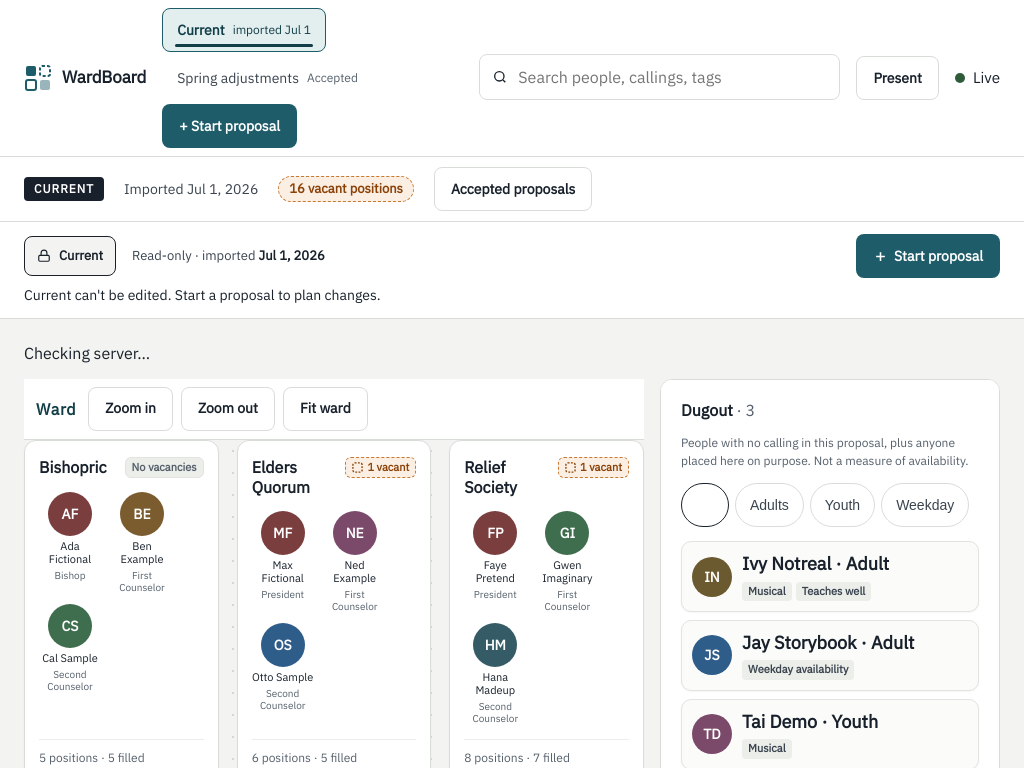
it: T-090 accepted view in app › opening from Current selects the newest accepted proposal
The width and height of the screenshot is (1024, 768).
Click the button "Accepted proposals" at (513,189), box [434,167,592,211]
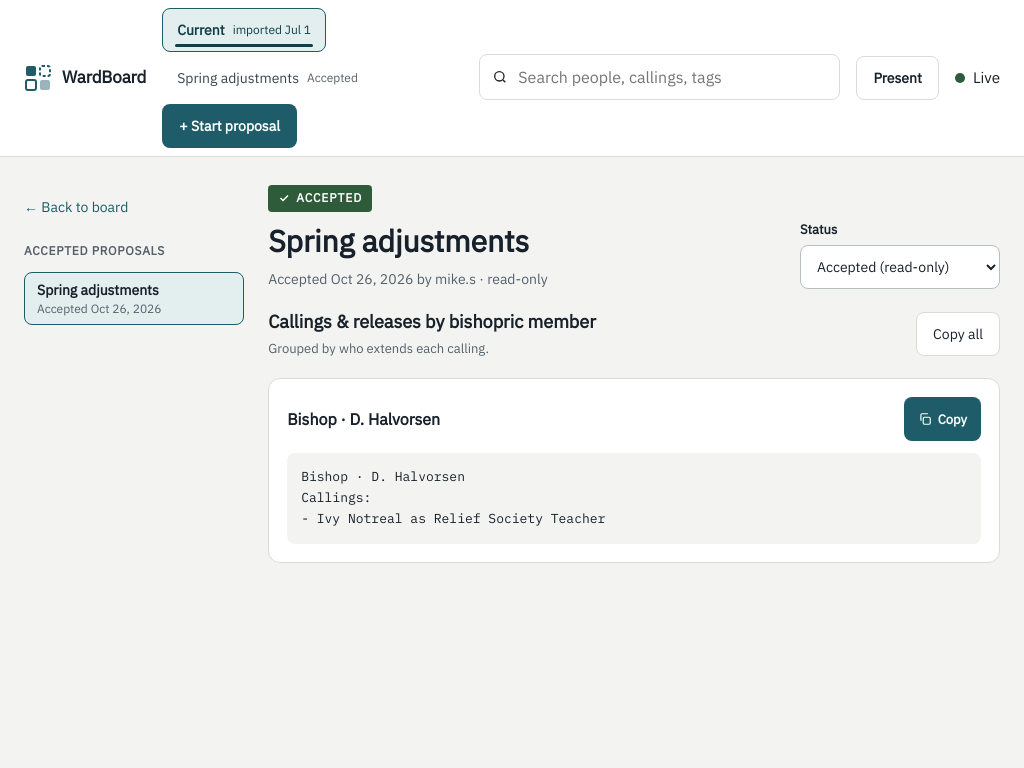
Expected: the text "Accepted Oct 26, 2026 by mike.s · read-only" is shown, [268,270,548,289]
Expected: the text "Ivy Notreal as Relief Society Teacher" is shown, [301,468,605,527]
